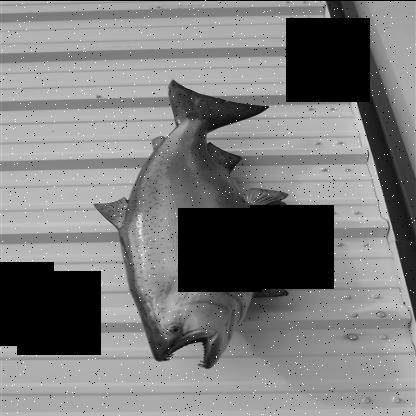fish: (91, 80, 290, 368)
